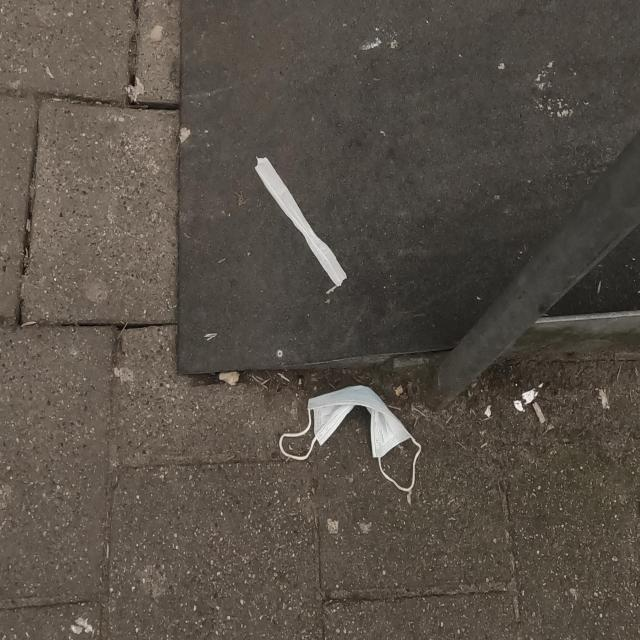Mask: (288, 397, 431, 494)
